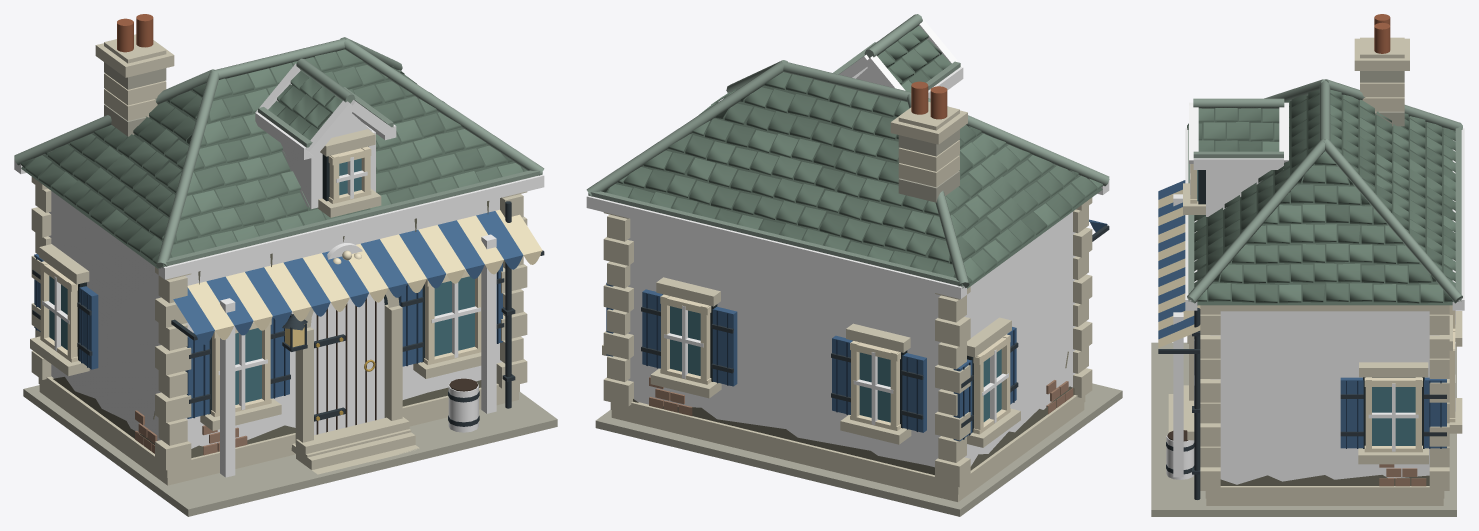
The model's file is pet_lodge.glb.
3 views of the same model, side by side, from view 1: azimuth 30°, elevation 25°; view 2: azimuth 150°, elevation 25°; view 3: azimuth 270°, elevation 25° (orthographic). The views are drawn at different scales.
Visible parts, largest first — view 1: SourceMesh_00052, SourceMesh_00005, SourceMesh_00000, SourceMesh_00142, SourceMesh_00048, SourceMesh_00047, SourceMesh_00006, SourceMesh_00049, SourceMesh_00050, SourceMesh_00135, SourceMesh_00001, SourceMesh_00310 (+63 smaller); view 2: SourceMesh_00005, SourceMesh_00052, SourceMesh_00000, SourceMesh_00044, SourceMesh_00006, SourceMesh_00045, SourceMesh_00001, SourceMesh_00046, SourceMesh_00050, SourceMesh_00135, SourceMesh_00360, SourceMesh_00288 (+36 smaller); view 3: SourceMesh_00052, SourceMesh_00005, SourceMesh_00000, SourceMesh_00051, SourceMesh_00135, SourceMesh_00006, SourceMesh_00044, SourceMesh_00214, SourceMesh_00001, SourceMesh_00122, SourceMesh_00310, SourceMesh_00007 (+45 smaller).
Part boxes in pixels (x1,y1,x2,y2): SourceMesh_00052: [21, 49, 527, 263]; SourceMesh_00005: [48, 191, 502, 448]; SourceMesh_00000: [23, 385, 557, 516]; SourceMesh_00142: [310, 293, 384, 435]; SourceMesh_00048: [158, 174, 544, 279]; SourceMesh_00047: [170, 52, 524, 257]; SourceMesh_00006: [38, 376, 519, 477]; SourceMesh_00049: [161, 170, 542, 267]; SourceMesh_00050: [21, 90, 202, 268]; SourceMesh_00135: [268, 71, 342, 140]; SourceMesh_00001: [39, 385, 518, 485]; SourceMesh_00310: [481, 234, 496, 413]; SourceMesh_00005: [628, 212, 1075, 467]; SourceMesh_00052: [603, 72, 1103, 283]; SourceMesh_00000: [595, 383, 1122, 516]; SourceMesh_00044: [606, 74, 955, 277]; SourceMesh_00006: [610, 395, 1085, 494]; SourceMesh_00045: [586, 195, 966, 299]; SourceMesh_00001: [611, 403, 1084, 501]; SourceMesh_00046: [588, 191, 963, 288]; SourceMesh_00050: [946, 128, 1102, 288]; SourceMesh_00135: [877, 25, 951, 91]; SourceMesh_00360: [633, 399, 934, 475]; SourceMesh_00288: [712, 306, 737, 386]; SourceMesh_00052: [1191, 89, 1458, 303]; SourceMesh_00005: [1210, 311, 1439, 484]; SourceMesh_00000: [1151, 342, 1456, 516]; SourceMesh_00051: [1197, 164, 1452, 305]; SourceMesh_00135: [1198, 108, 1279, 151]; SourceMesh_00006: [1205, 486, 1444, 498]; SourceMesh_00044: [1330, 93, 1452, 280]; SourceMesh_00214: [1372, 387, 1415, 445]; SourceMesh_00001: [1206, 498, 1443, 505]; SourceMesh_00122: [1206, 170, 1270, 216]; SourceMesh_00310: [1173, 312, 1183, 477]; SourceMesh_00007: [1220, 305, 1429, 311].
Size of the model in its own units: 5.97 by 5.72 by 4.51.
